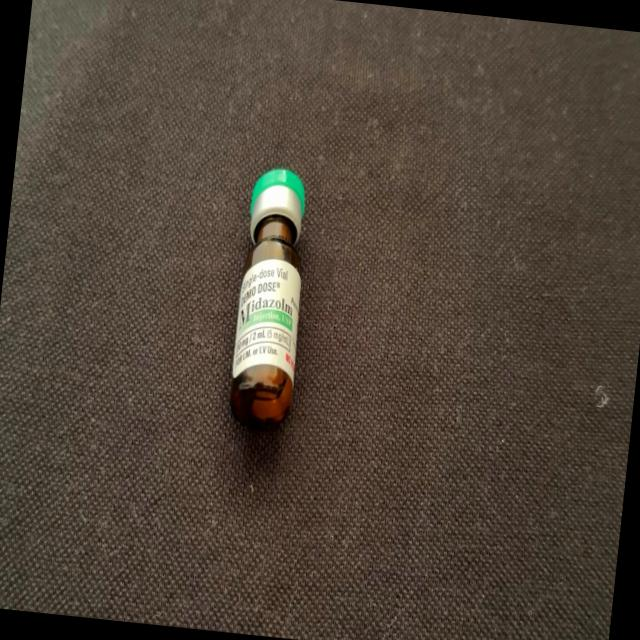midazolm: (226, 170, 314, 426)
